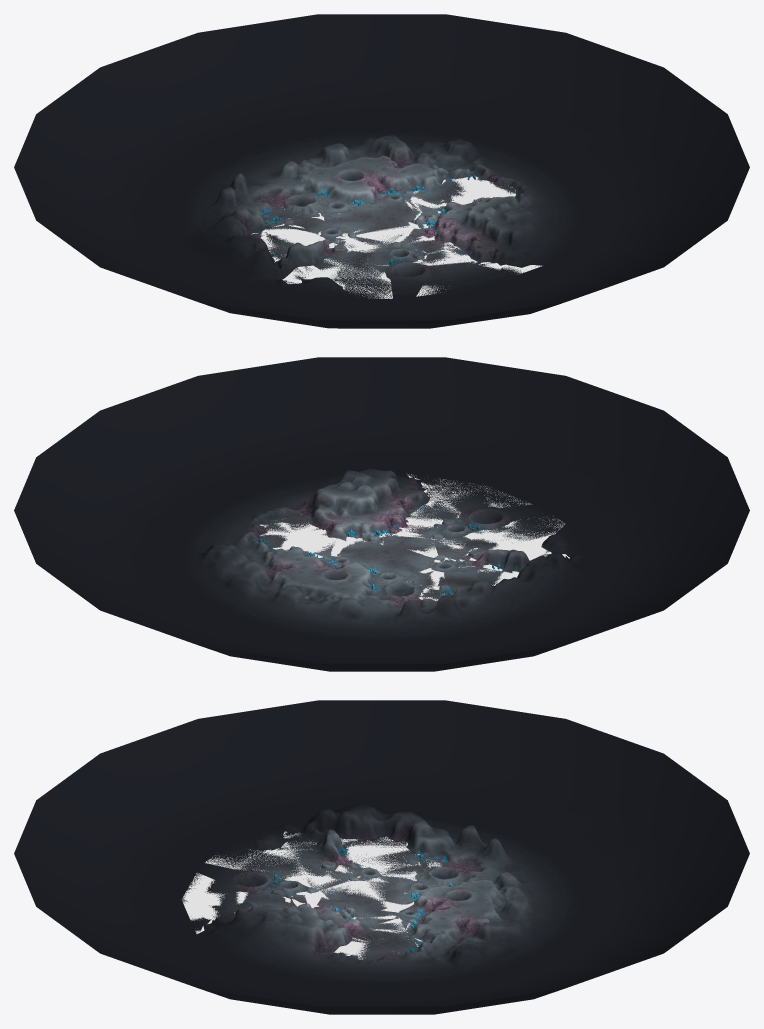
Rendered from Terrain.fbx.
3 views of the same model, one above another, from view 1: azimuth 30°, elevation 25°; view 2: azimuth 150°, elevation 25°; view 3: azimuth 270°, elevation 25° (orthographic).
Visible parts, largest first — view 1: floor, floorcollide; view 2: floor, floorcollide; view 3: floor, floorcollide.
Boxes of the visible parts, <box> form: floor: <box>14,14,749,328</box>; floorcollide: <box>251,176,541,298</box>; floor: <box>14,357,749,671</box>; floorcollide: <box>260,473,569,600</box>; floor: <box>14,700,749,1014</box>; floorcollide: <box>182,831,443,959</box>.
Bounding box in the file's own units: 278 × 21.9 × 282.
2 materials, 1 textured.
